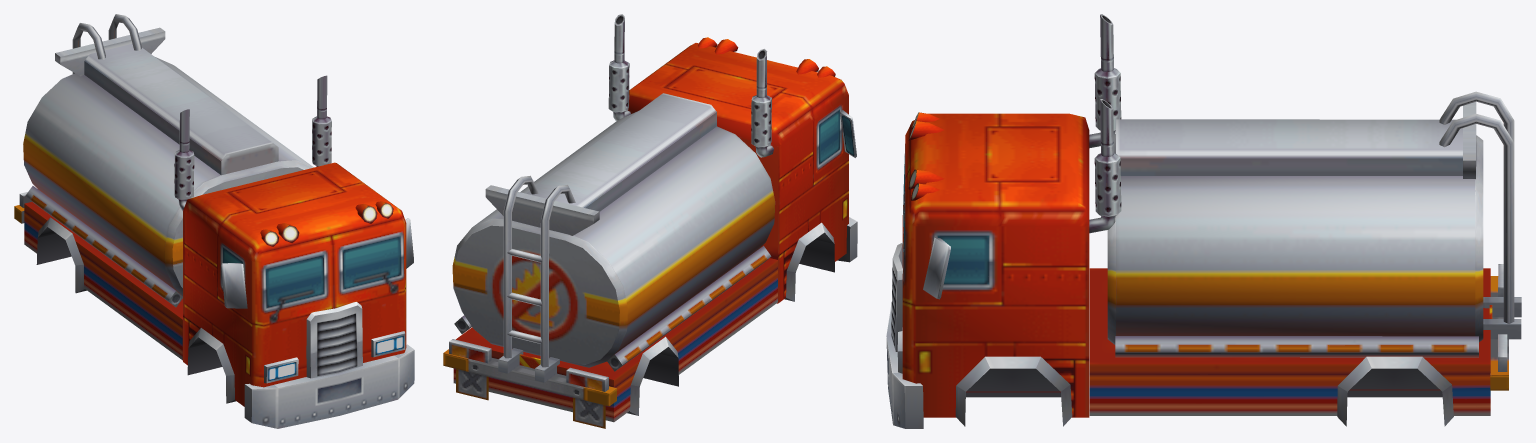
The model's file is car_mod.FBX.
The picture shows the model from 3 angles, left to right: view 1: azimuth 30°, elevation 25°; view 2: azimuth 150°, elevation 25°; view 3: azimuth 270°, elevation 25°; orthographic projection. The views are drawn at different scales.
Visible parts, largest first — view 1: car_02_mod; view 2: car_02_mod; view 3: car_02_mod.
Boxes of the visible parts, x1=… form: car_02_mod: x1=14, y1=14, x2=414, y2=428; car_02_mod: x1=443, y1=14, x2=857, y2=428; car_02_mod: x1=886, y1=14, x2=1521, y2=428.
Size of the model in its own units: 301 by 399 by 693.
Materials: 1 (1 with a texture image).
